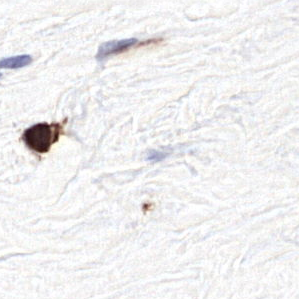Lymphocyte: (24, 122, 62, 154)
